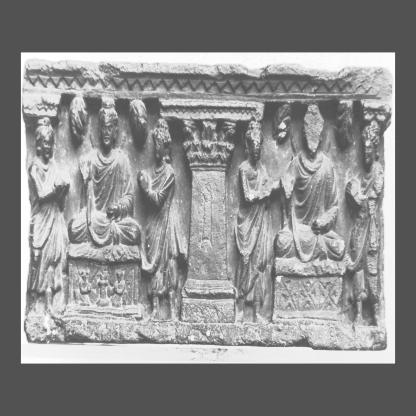buddha-sitting: (65, 100, 141, 318), (272, 104, 346, 324)
